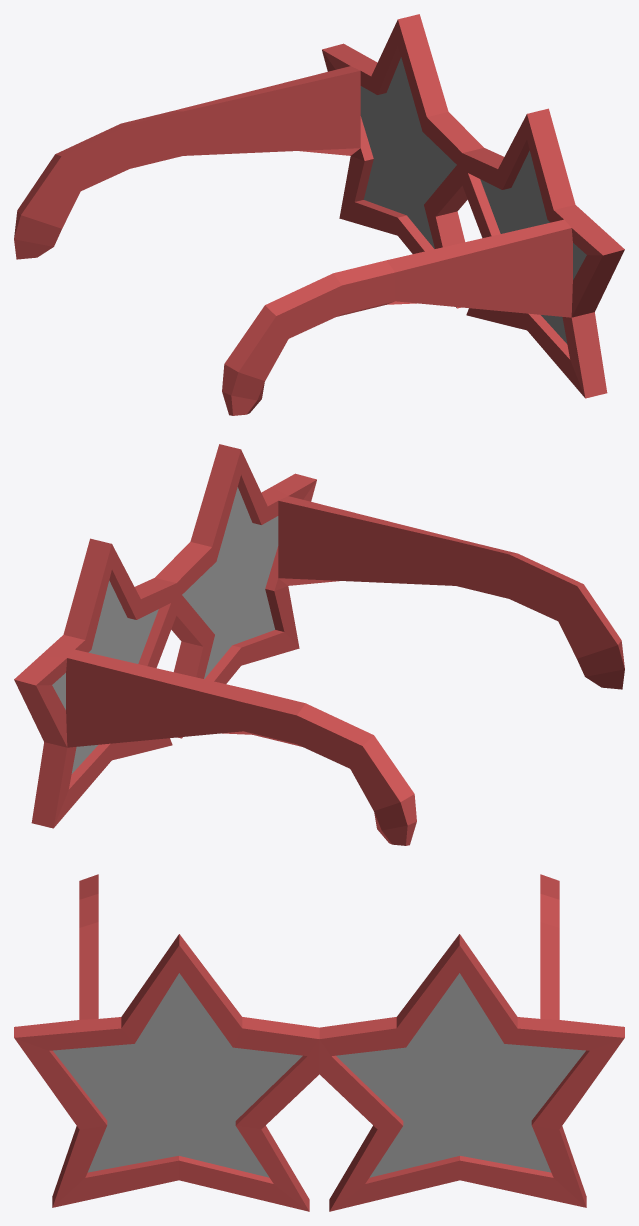
Rendered from Disco_Shades.fbx.
The picture shows the model from 3 angles, top to bottom: view 1: azimuth 30°, elevation 25°; view 2: azimuth 150°, elevation 25°; view 3: azimuth 270°, elevation 25°; orthographic projection. The views are drawn at different scales.
Visible parts, largest first — view 1: pasted__pCube11, polySurface6, polySurface5; view 2: pasted__pCube11, polySurface5, polySurface6; view 3: pasted__pCube11, polySurface5, polySurface6.
Part boxes in pixels (x1,y1,x2,y2): pasted__pCube11: (14, 14, 624, 415); polySurface6: (360, 57, 456, 248); polySurface5: (480, 150, 586, 343); pasted__pCube11: (14, 444, 624, 845); polySurface5: (182, 487, 278, 678); polySurface6: (52, 580, 158, 773); pasted__pCube11: (14, 874, 624, 1211); polySurface5: (53, 973, 302, 1177); polySurface6: (336, 973, 585, 1177).
Size of the model in its own units: 3.37 by 2.15 by 4.47.
